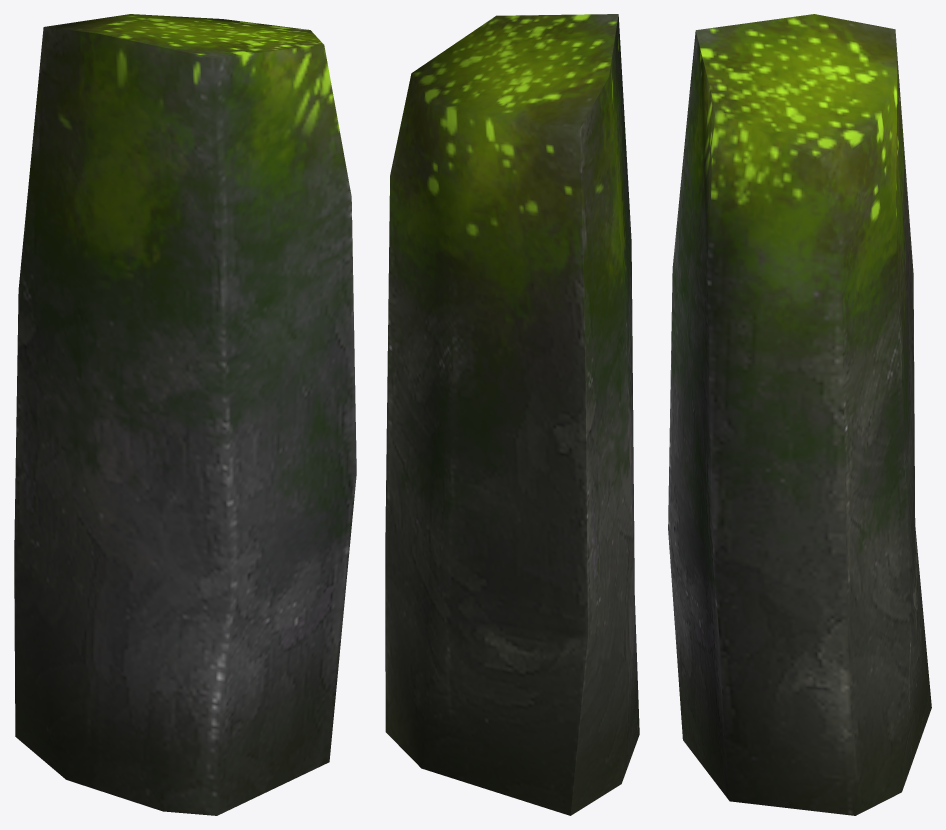
File: rock8.fbx
3 views of the same model, side by side, from view 1: azimuth 30°, elevation 25°; view 2: azimuth 150°, elevation 25°; view 3: azimuth 270°, elevation 25° (orthographic). The views are drawn at different scales.
Parts seen in each view (by area): view 1: rocks1_7; view 2: rocks1_7; view 3: rocks1_7.
Part boxes in pixels (x1=…): rocks1_7: x1=14, y1=14, x2=356, y2=815; rocks1_7: x1=385, y1=14, x2=639, y2=815; rocks1_7: x1=668, y1=14, x2=931, y2=815.
Size of the model in its own units: 179 by 511 by 171.
